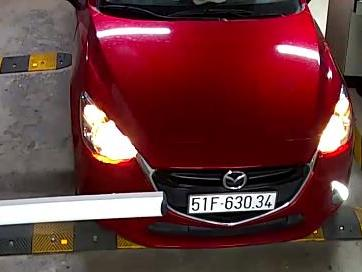car: (188, 191, 277, 213)
